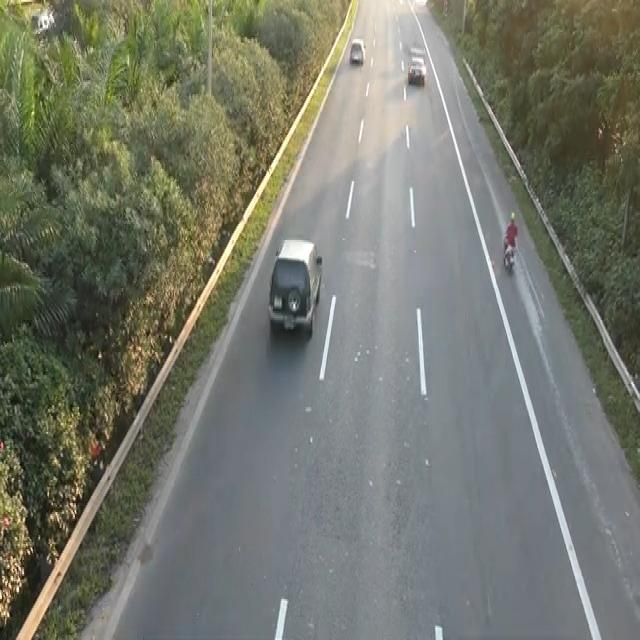car: (265, 233, 324, 338)
minibus: (501, 235, 517, 272)
